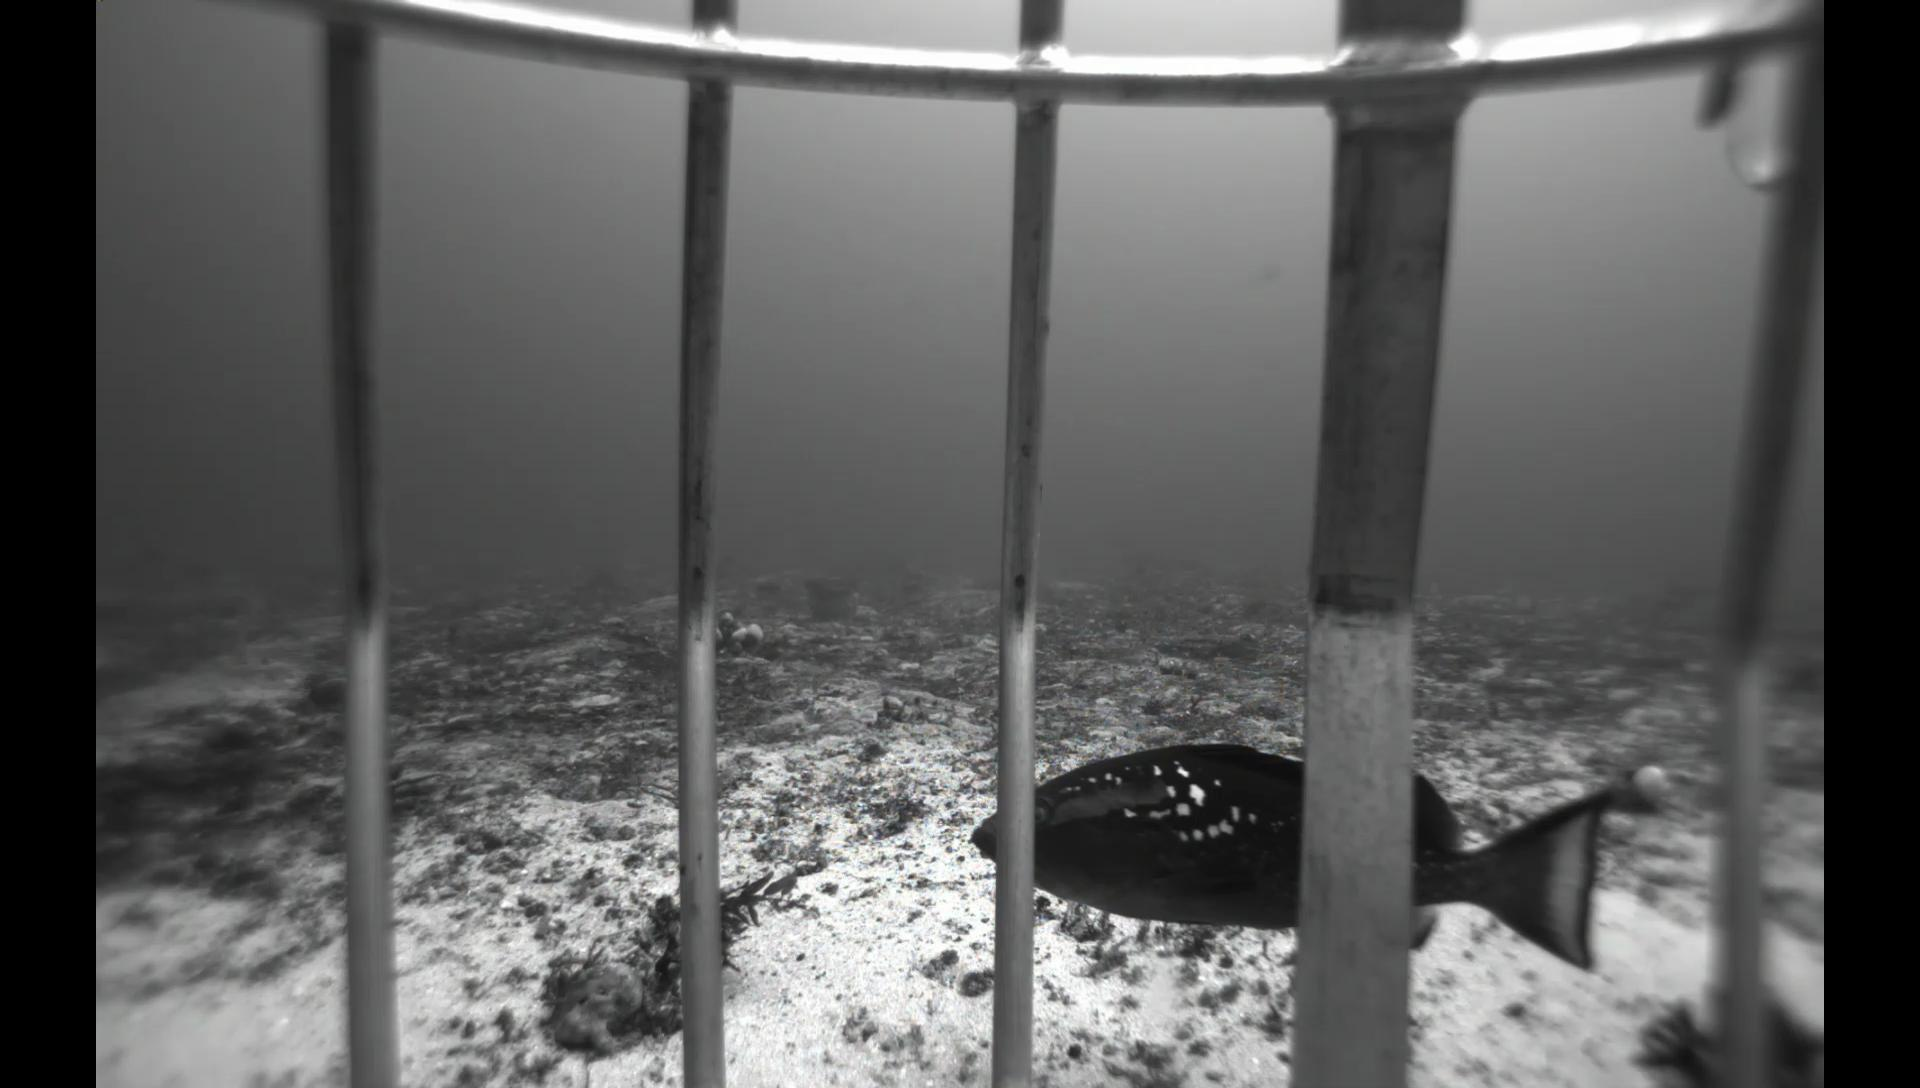CHAETODONOCELLATUS-170260307: (1501, 589, 1543, 616), (1418, 576, 1444, 599)
EPINEPHELUSMORIO-170021211: (964, 736, 1631, 996)
PRISTIGENYSALTA-170050401: (298, 673, 348, 716)
